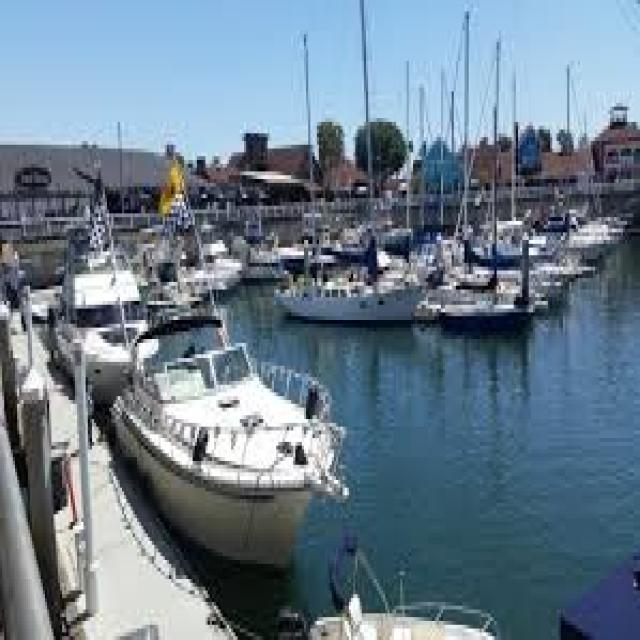houseboat: (120, 320, 382, 550)
